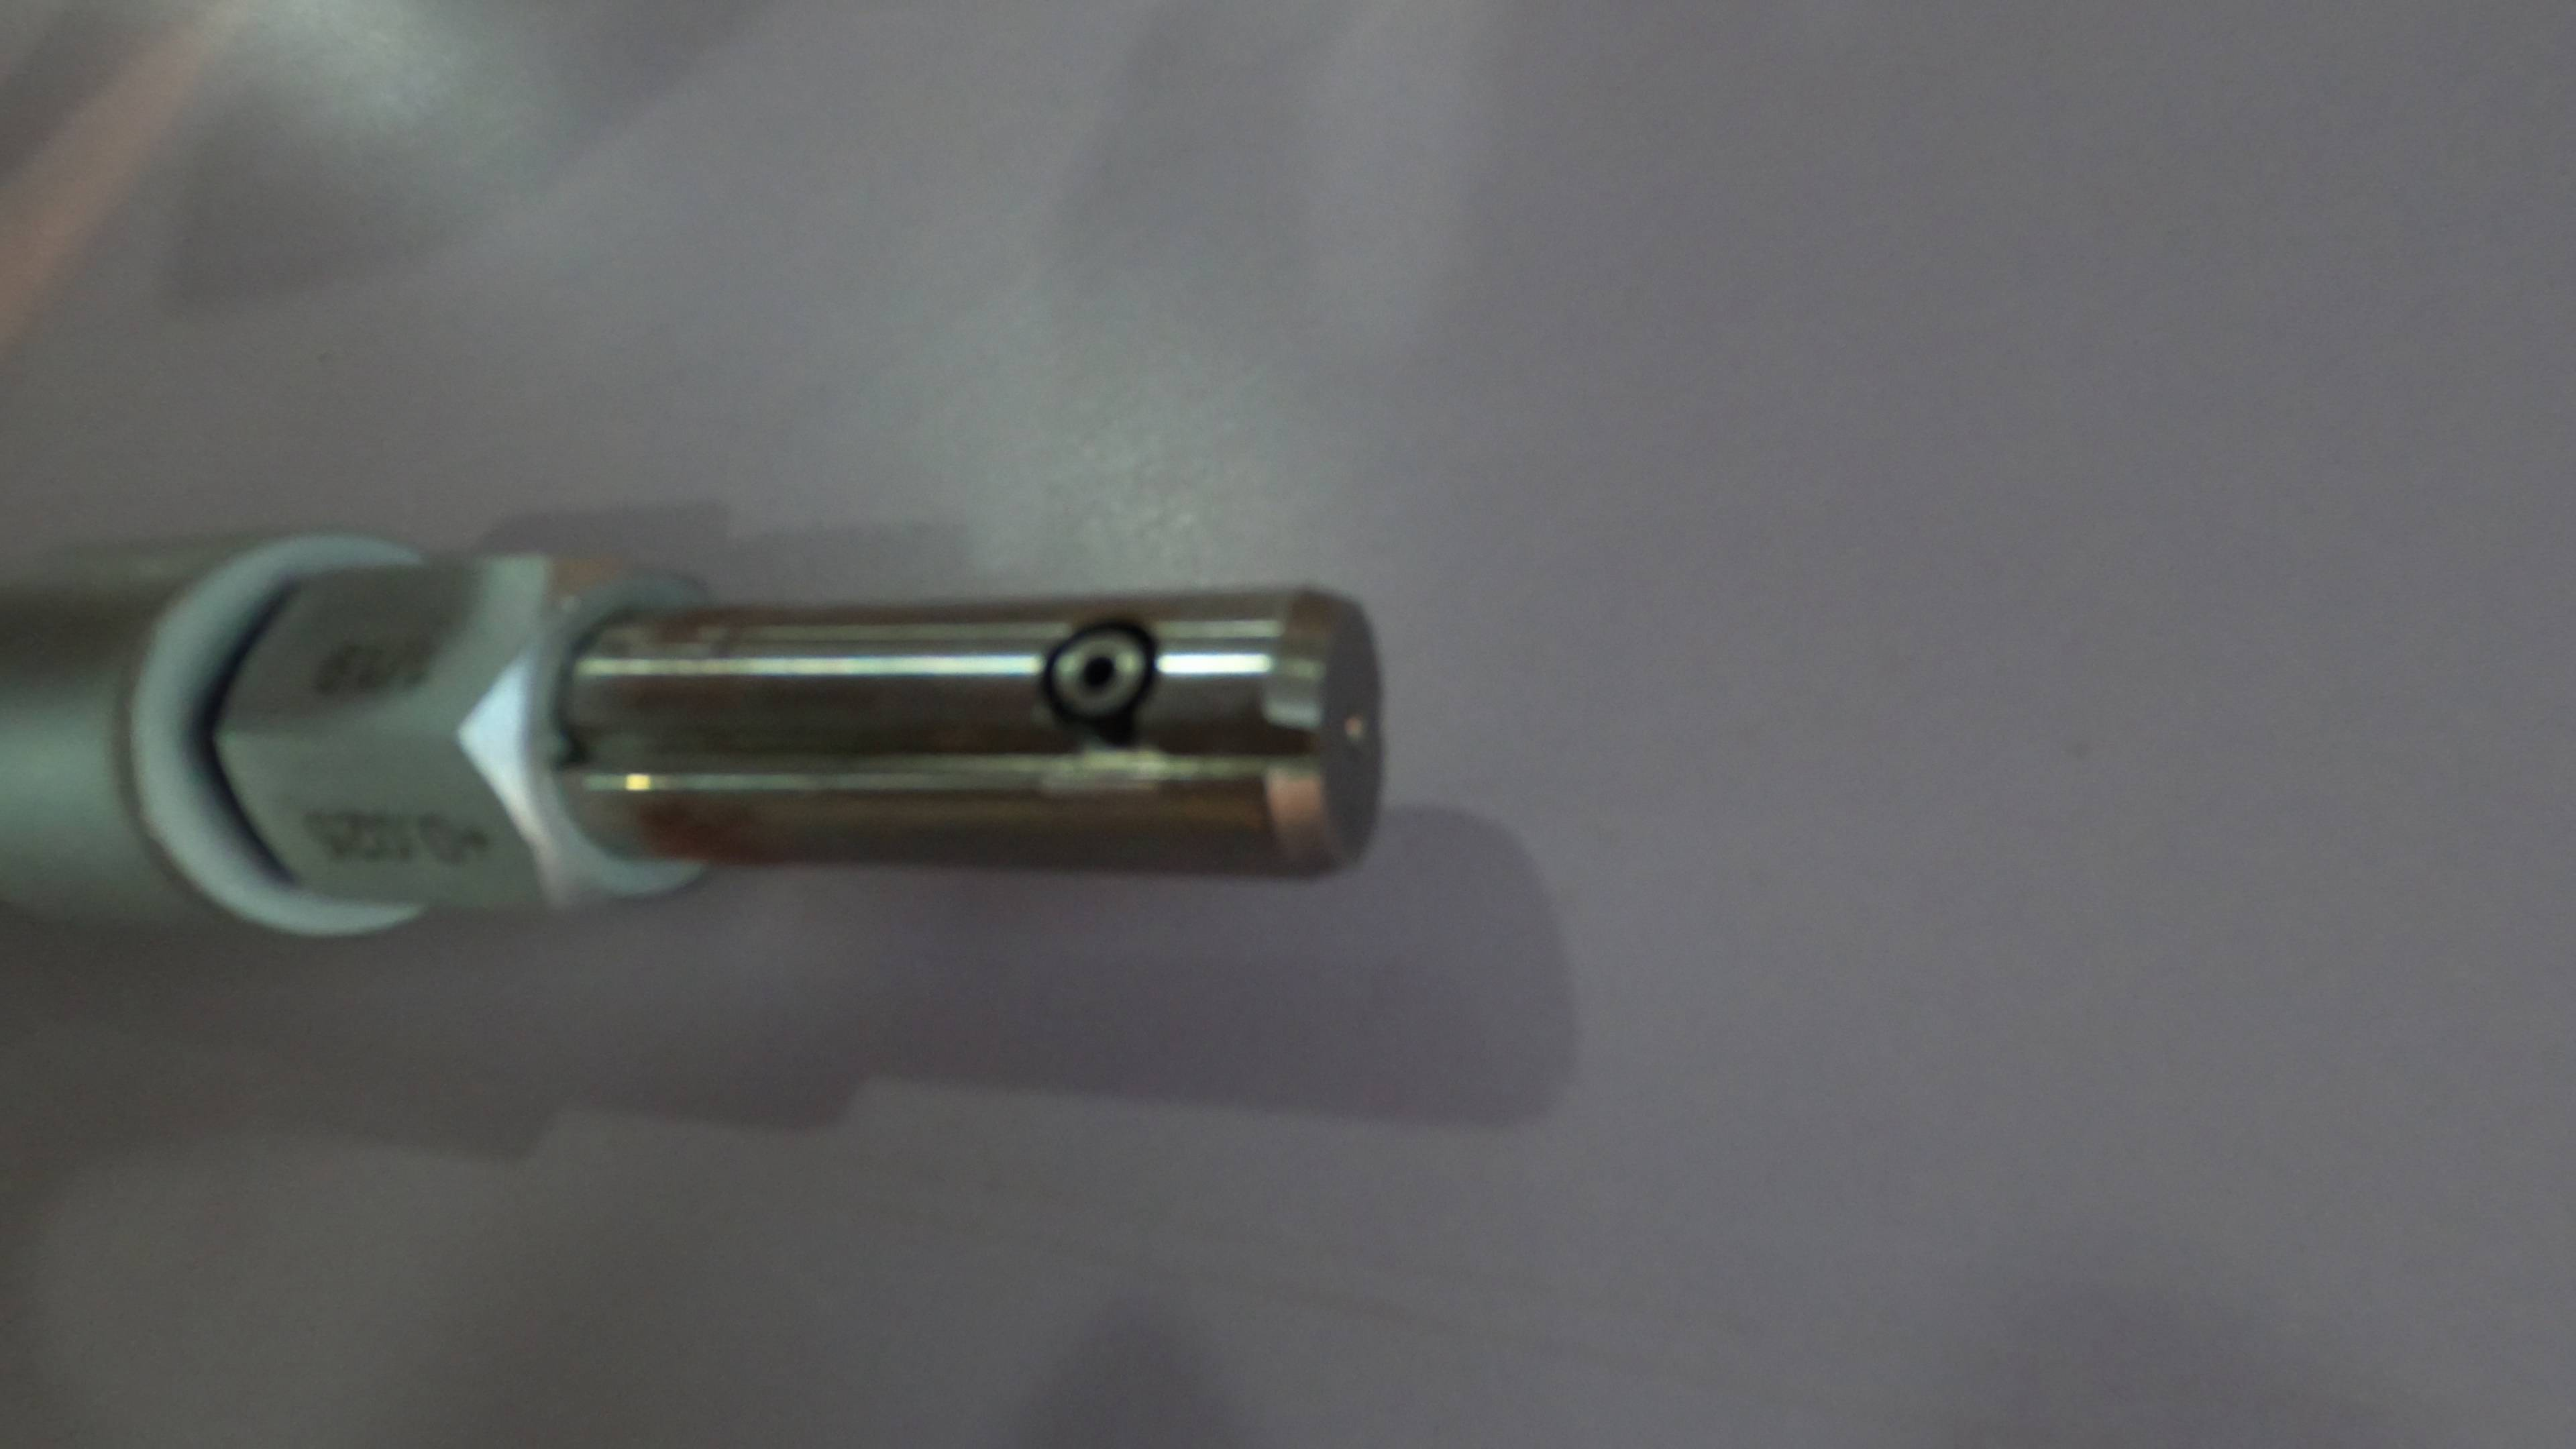air_gauge: (4, 533, 1391, 957)
